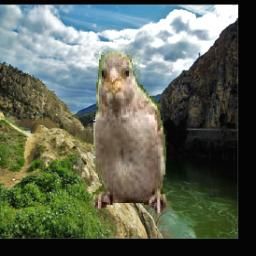Sparrow: (91, 50, 167, 225)
